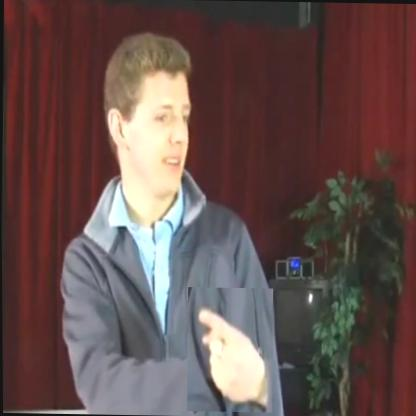NiceToMeetYou: (185, 287, 273, 412)
